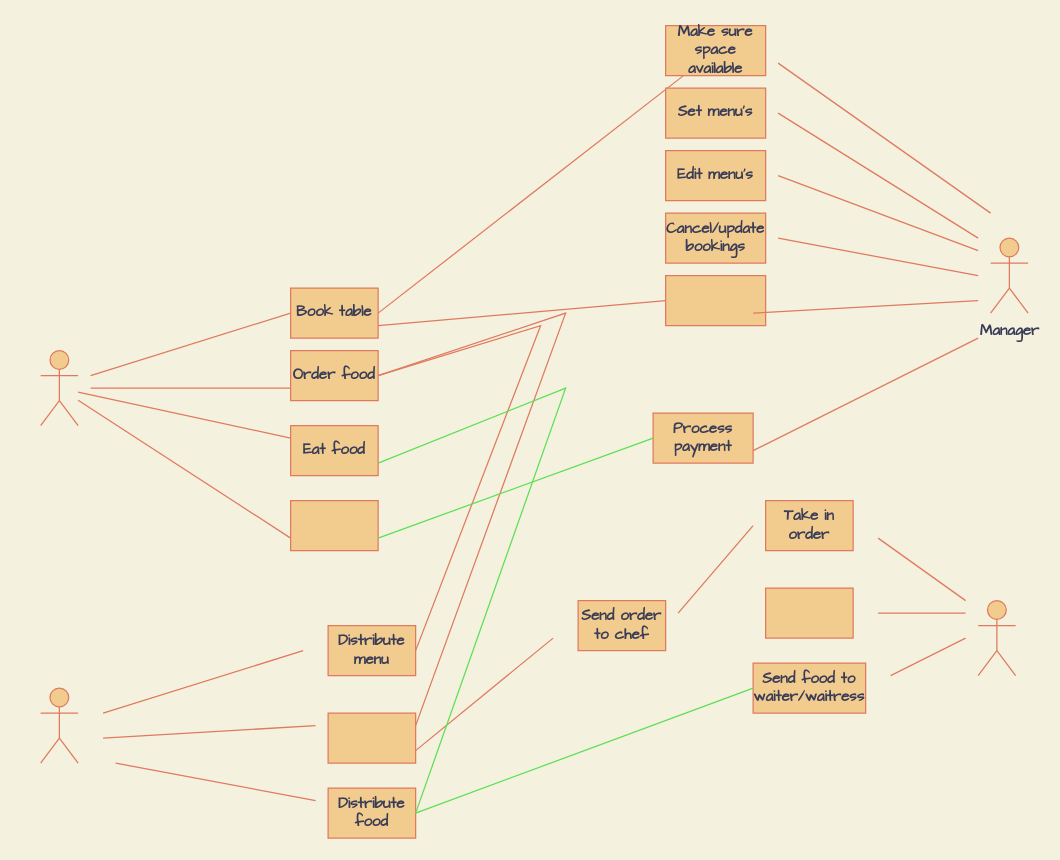
Some shapes in this 1060 by 860 pixel diagram are drawn without their labels. Each missing label, with the centre of its shape:
Chef: pixel 996 637
Cook food: pixel 808 612
Customer: pixel 58 387
Pay for food: pixel 333 525
Set tables: pixel 715 300
Take order: pixel 371 737
Waiter/ess: pixel 58 725
